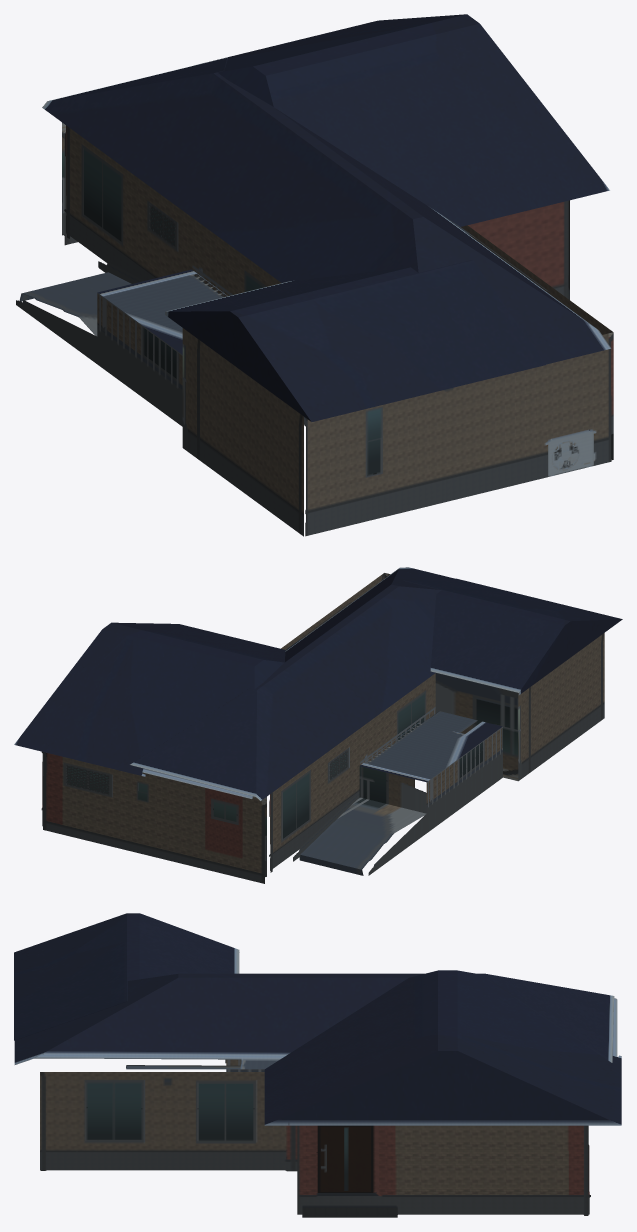
File: house011_low.fbx
3 views of the same model, one above another, from view 1: azimuth 30°, elevation 25°; view 2: azimuth 150°, elevation 25°; view 3: azimuth 270°, elevation 25° (orthographic). The views are drawn at different scales.
Visible parts, largest first — view 1: pCube8; view 2: pCube8; view 3: pCube8.
Boxes of the visible parts, bbox=[...] form: pCube8: bbox=[16, 14, 613, 536]; pCube8: bbox=[14, 567, 622, 883]; pCube8: bbox=[14, 913, 621, 1217].
Bounding box in the file's own units: 946 × 427 × 1407.
5 materials, 5 textured.
